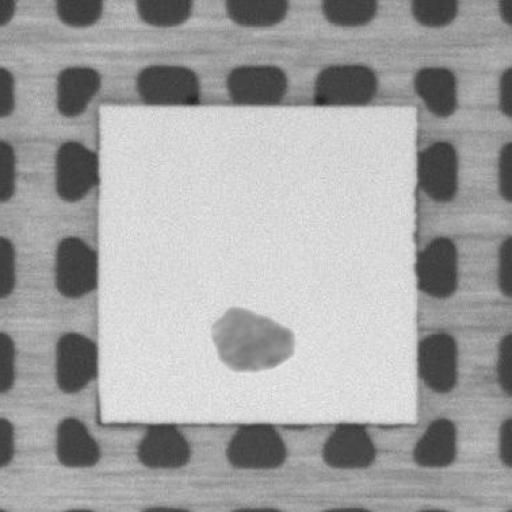DIE_INK: (201, 299, 299, 378)
